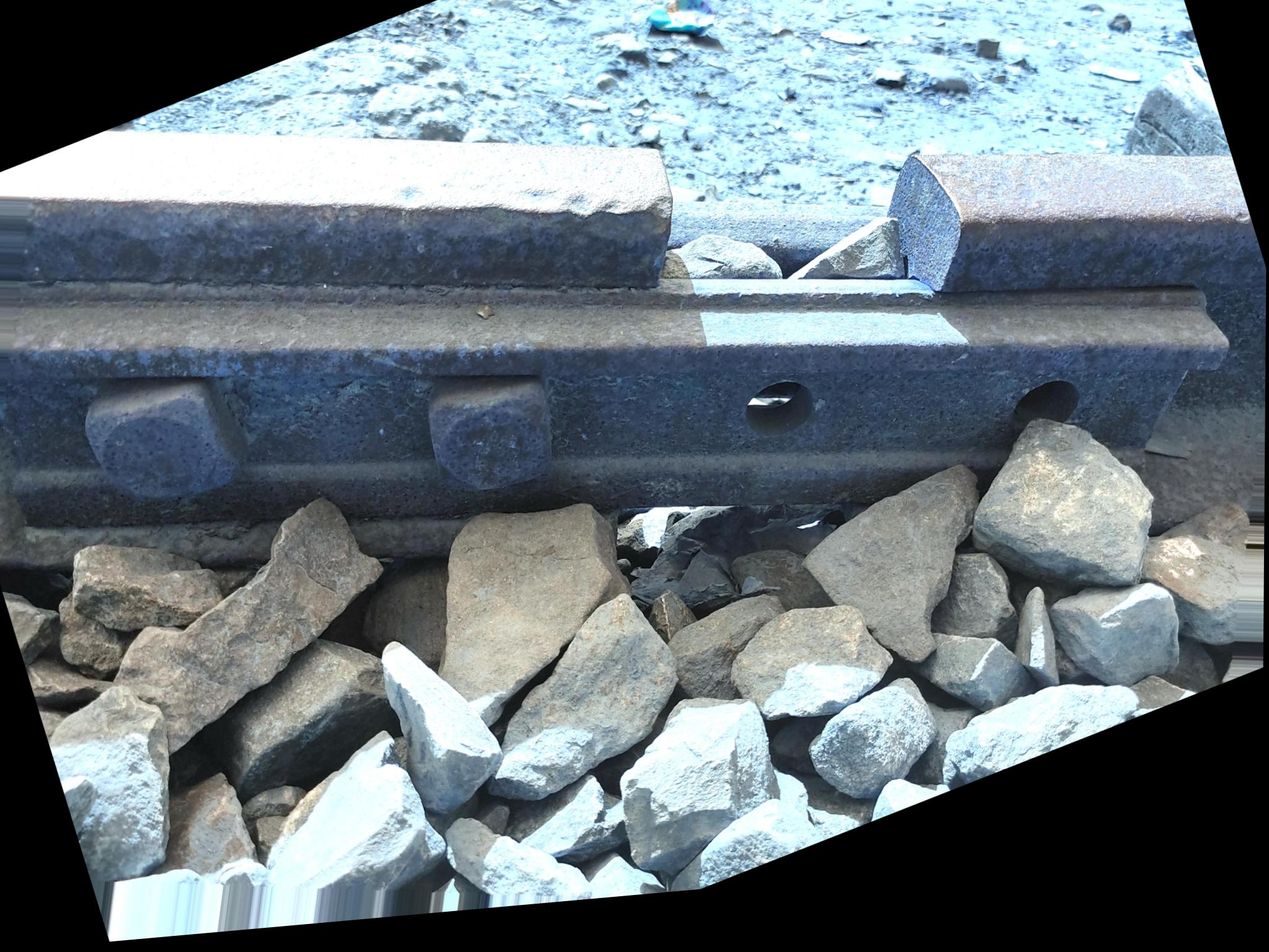person: (550, 15, 1016, 464)
